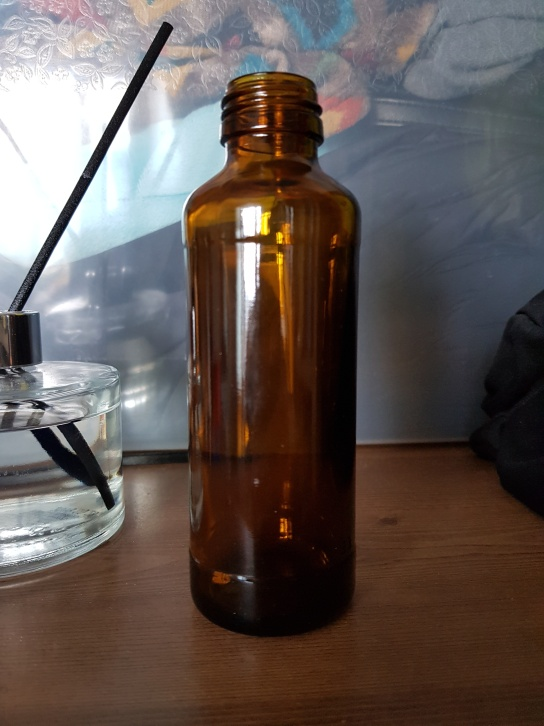Glass: (187, 74, 358, 638)
